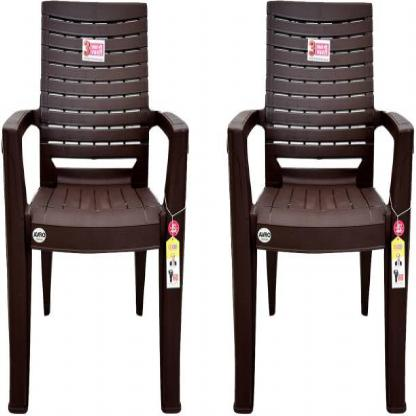chair: (1, 0, 194, 415), (226, 11, 410, 415)
